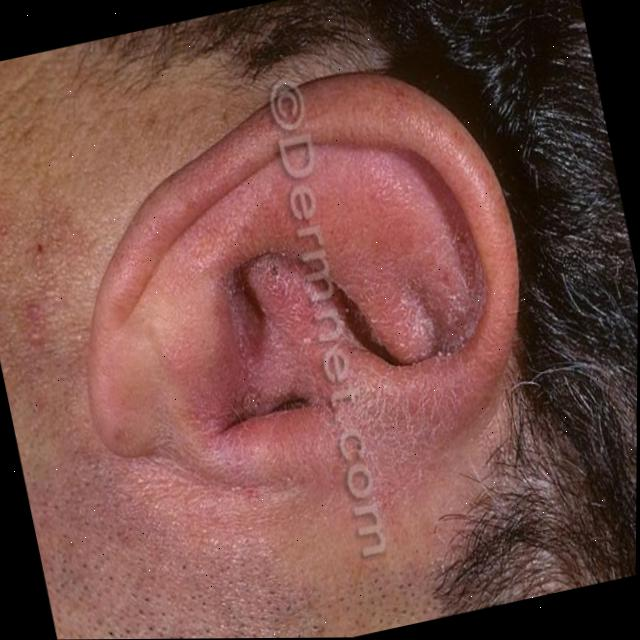Eczema: (155, 223, 516, 541)
